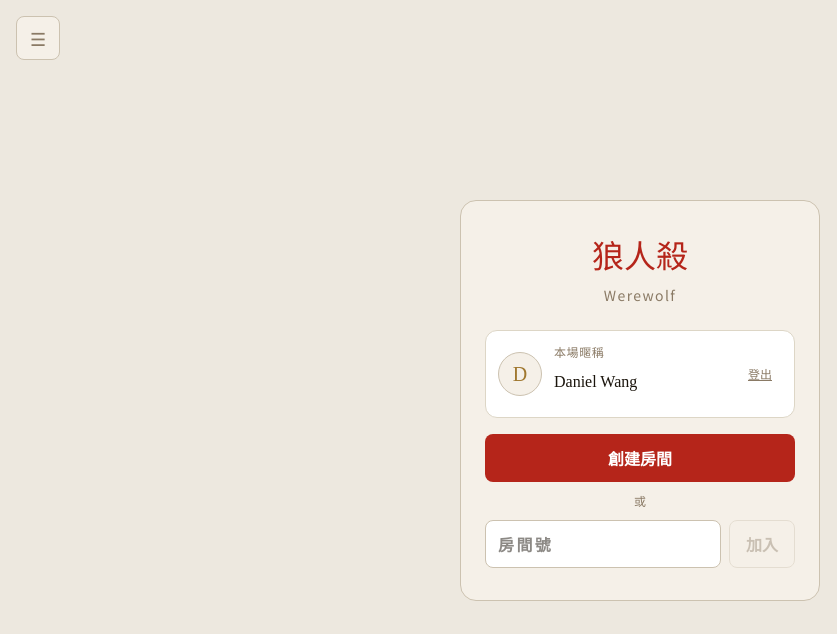
LobbyView OAuth UI › shows the backend join reason (Room is not open)
The width and height of the screenshot is (837, 634).
Type "123" into the field with test id "room-code-input" at [603, 544], box [485, 520, 721, 568]
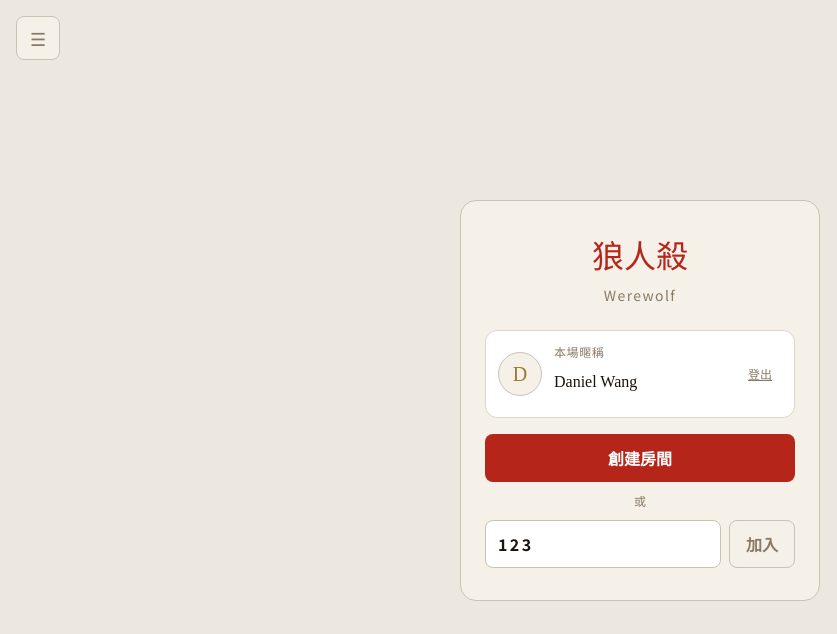
Click the button with test id "join-room-btn" at [762, 544], box [729, 520, 795, 568]
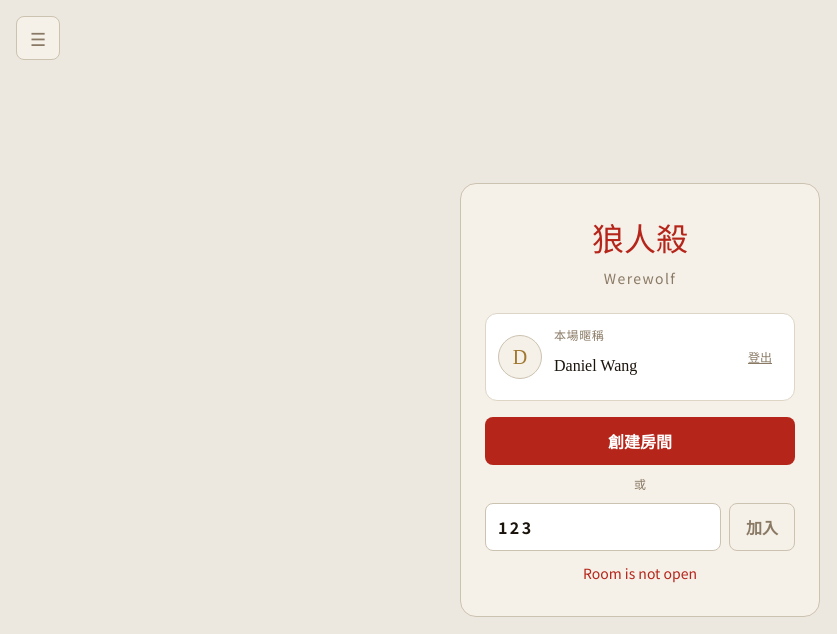
Expected: the text with test id "lobby-error" reads "Room is not open", [583, 563, 697, 583]
